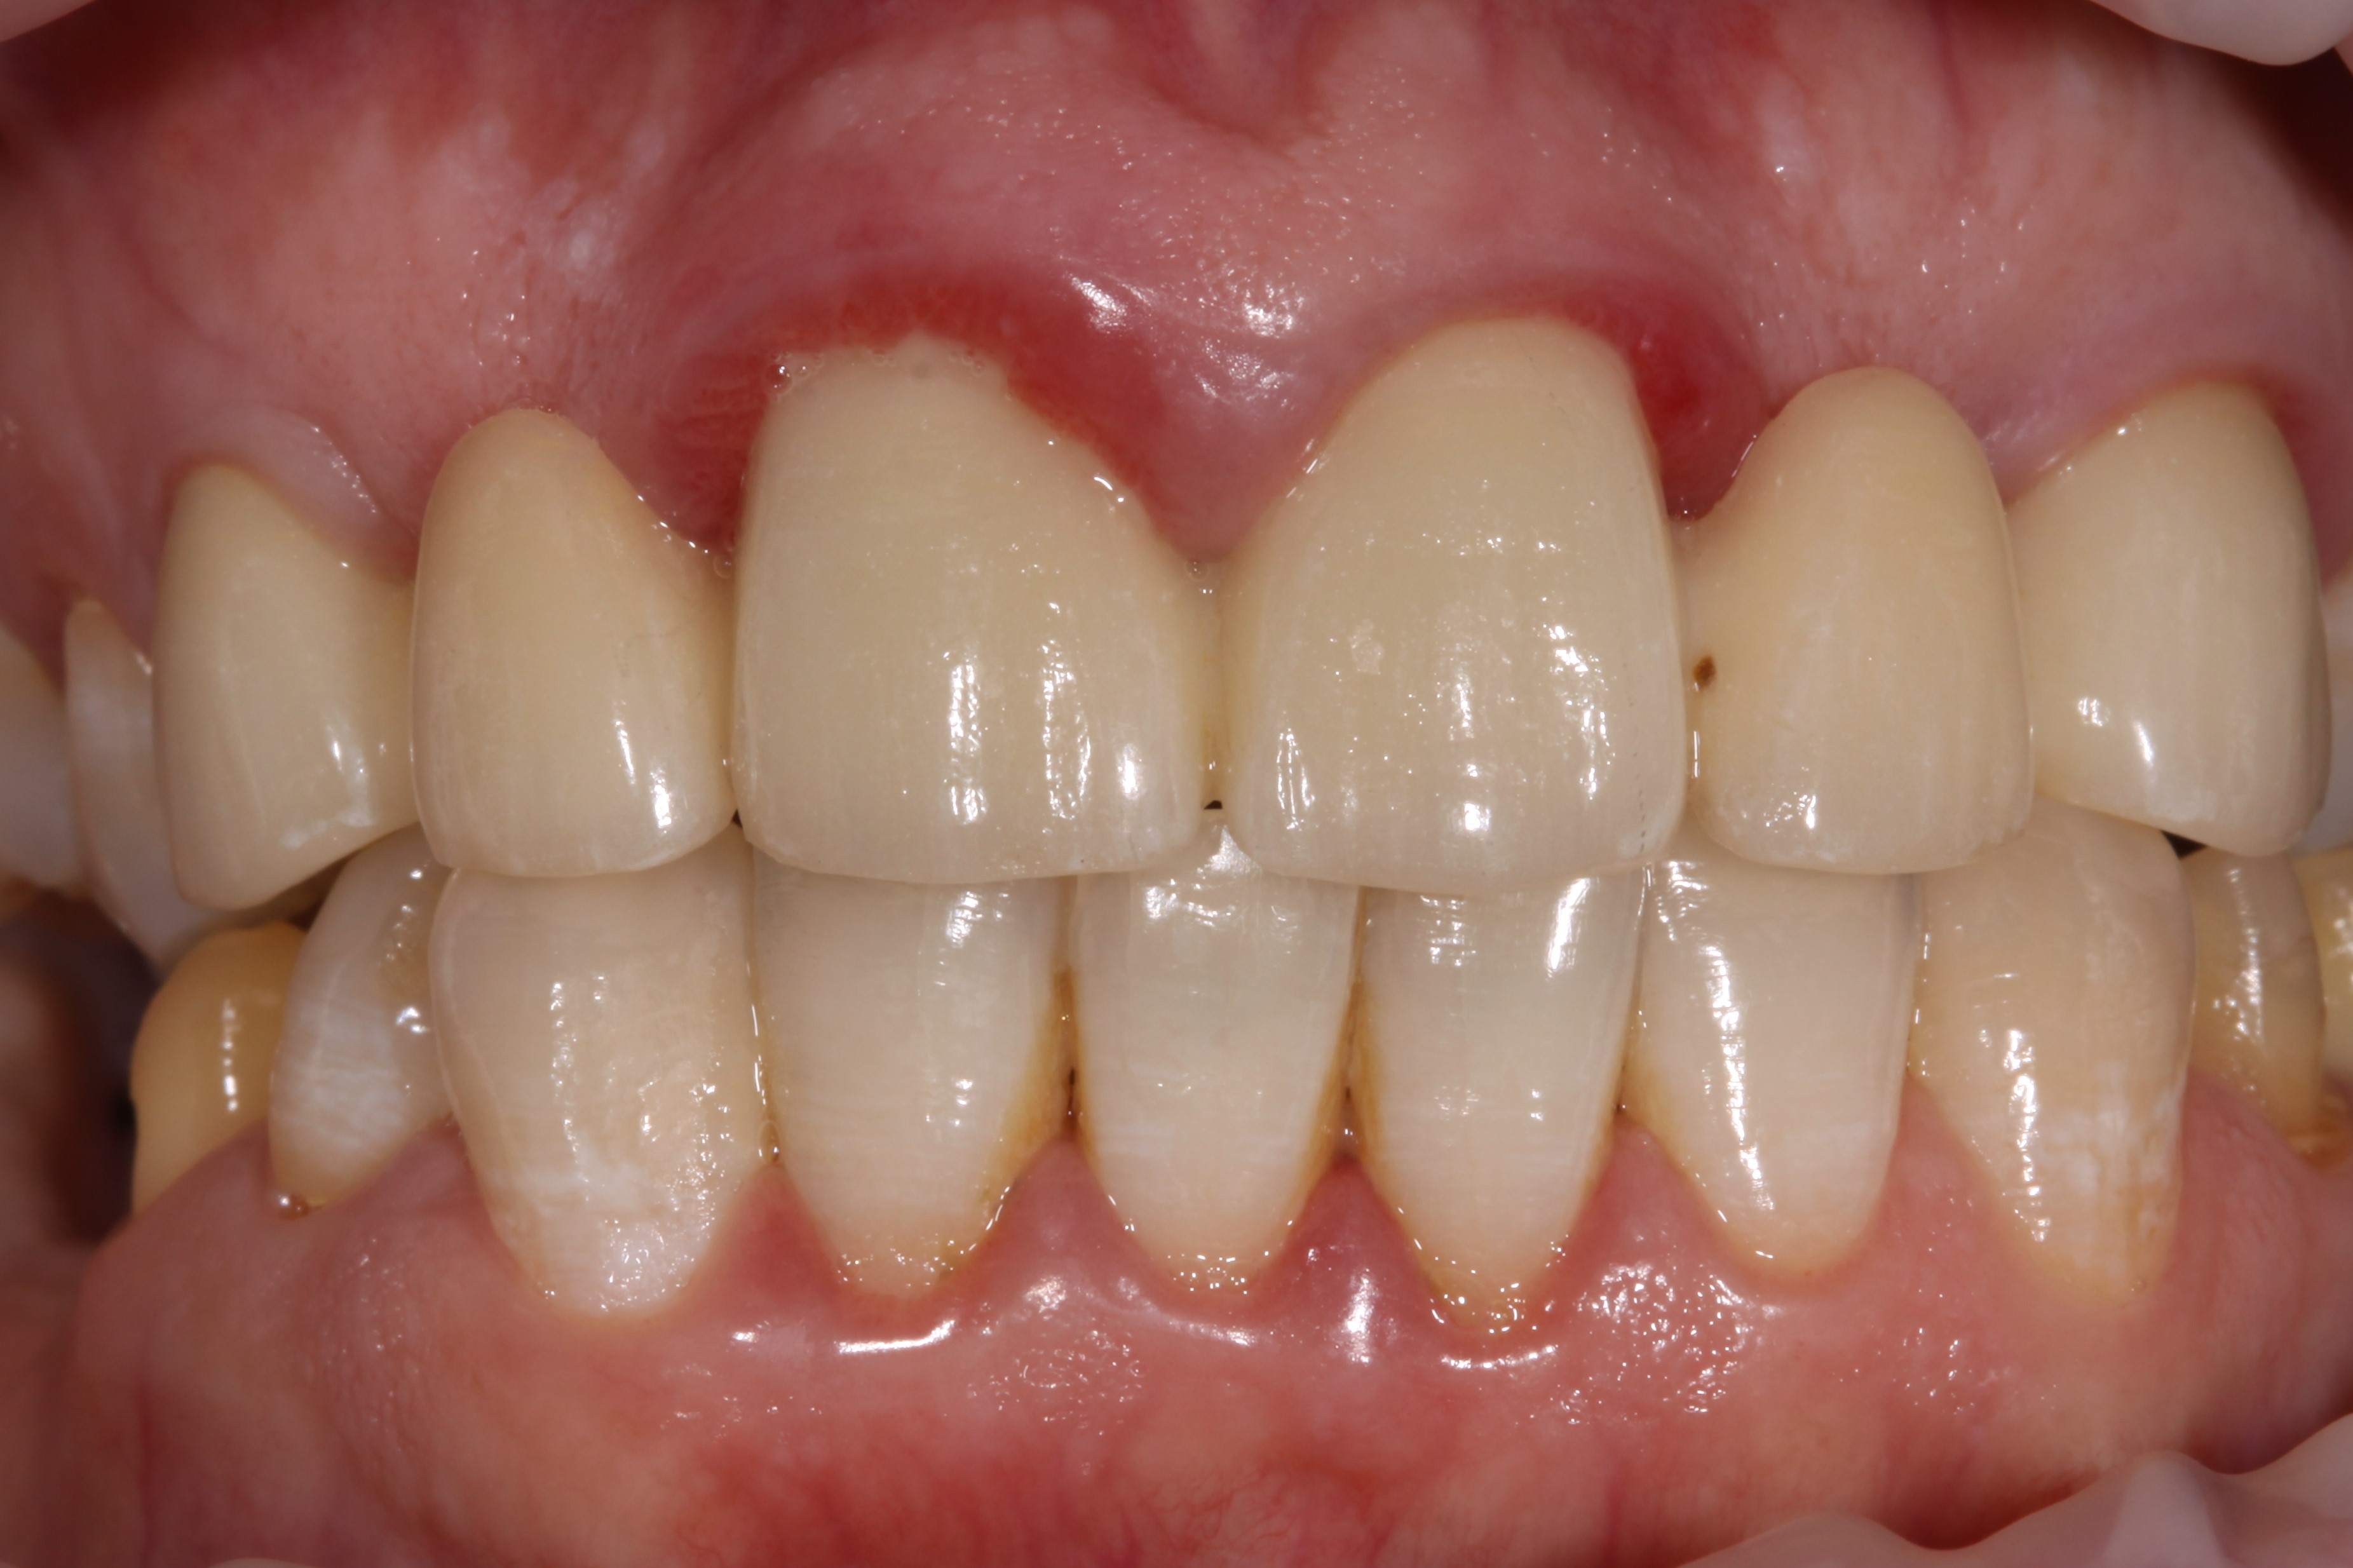LL1BC_decay: (2190, 856, 2329, 1151)
LLCI_healthy: (1370, 884, 1639, 1284)
LLC_decay: (1914, 870, 2190, 1277)
LLLI_healthy: (1644, 877, 1912, 1262)
LR1BC_healthy: (271, 868, 441, 1220)
LR2BC_decay: (129, 927, 289, 1202)
LRCI_healthy: (1088, 877, 1344, 1290)
LRC_healthy: (430, 878, 756, 1295)
LRLI_healthy: (747, 864, 1043, 1256)
ULCI_healthy: (1221, 315, 1681, 884)
ULC_healthy: (2031, 380, 2329, 854)
ULLI_healthy: (1730, 369, 2031, 871)
URCI_healthy: (731, 346, 1205, 875)
URC_healthy: (157, 471, 413, 903)
URLI_healthy: (413, 409, 731, 875)
